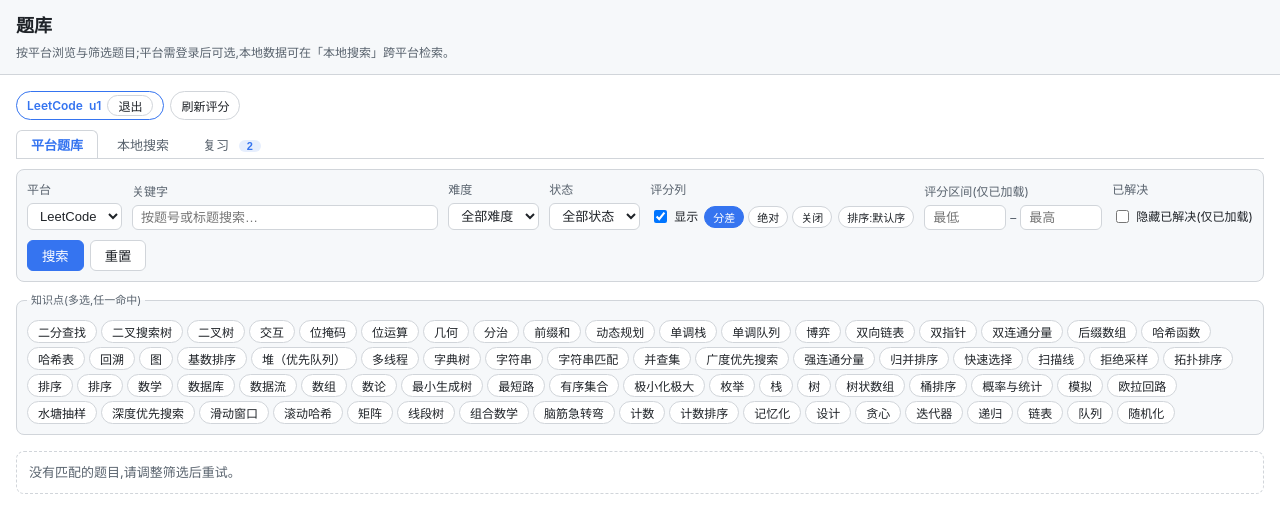
problems page review subview (WP64) › completes a today-row review via POST complete, then refetches and syncs the badge
Click the tab with class "subviews__tab" showing "复习 2": (232, 144) top-left (188, 130), bottom-right (276, 158)
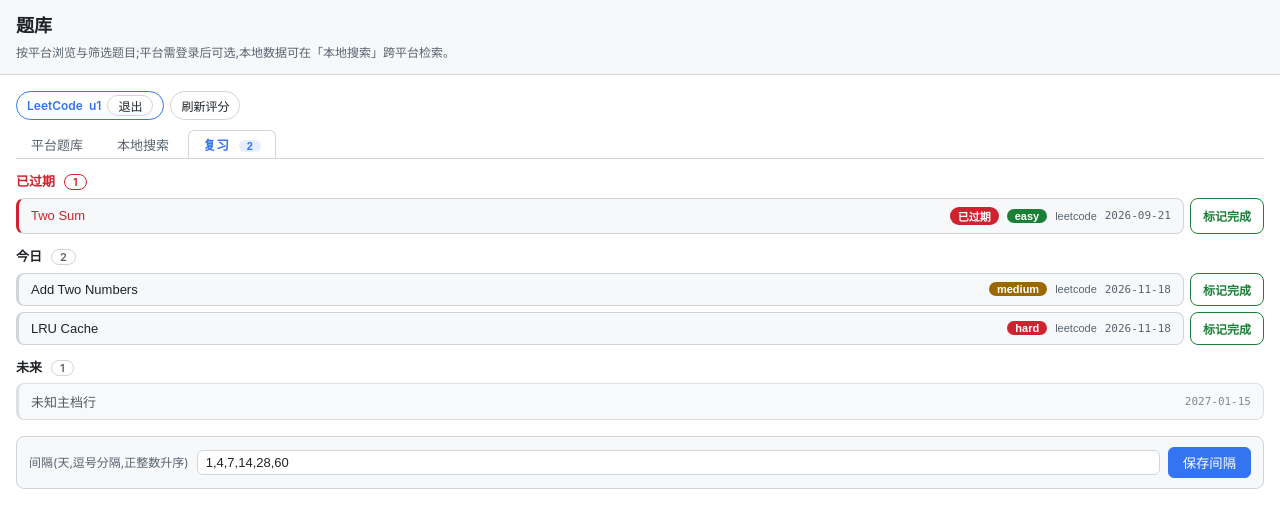
Click the 2nd button with class "review-row__done": (1227, 289) top-left (1190, 273), bottom-right (1264, 306)
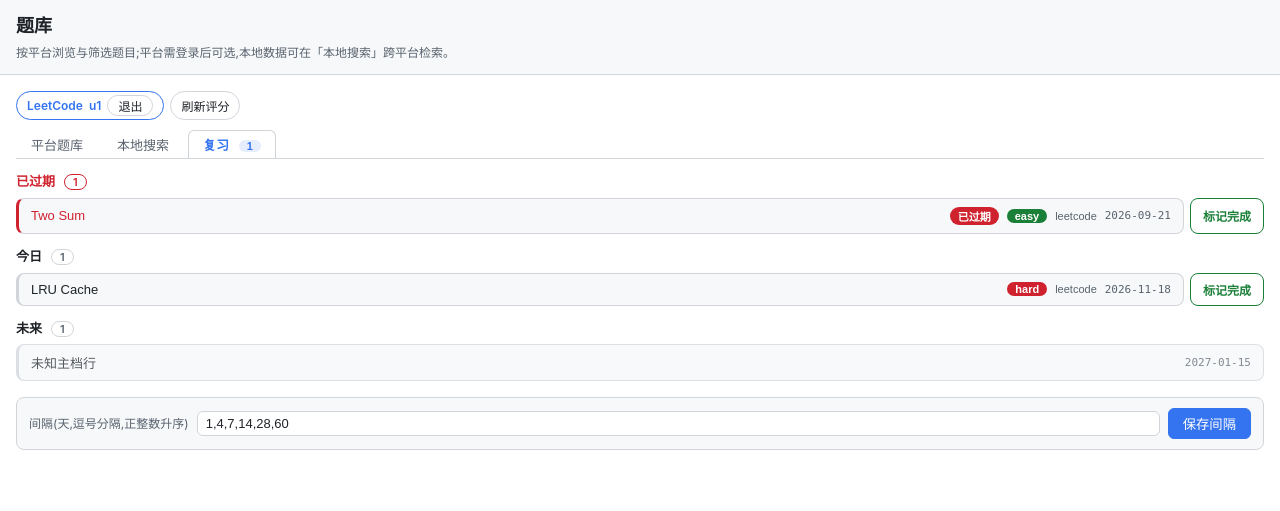
Check: the text with class "subviews__badge" reads "1", box top-left (247, 140), bottom-right (253, 152)
